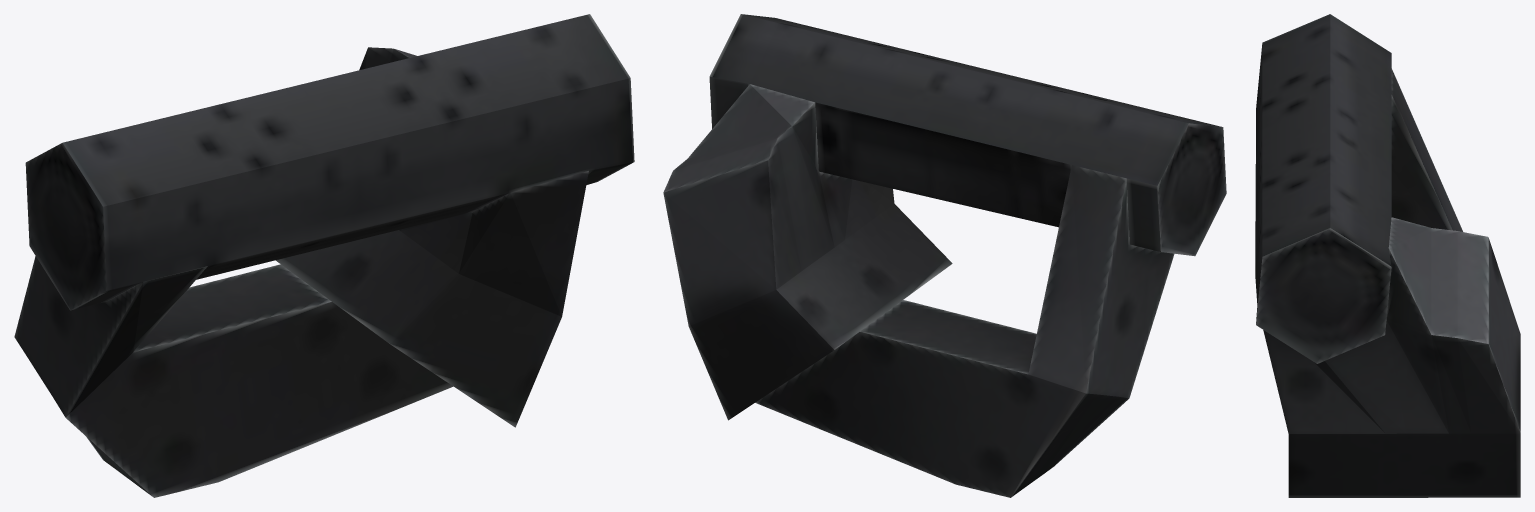
Rendered from l_lglut.dae.
3 renders of one model, left to right at view 1: azimuth 30°, elevation 25°; view 2: azimuth 150°, elevation 25°; view 3: azimuth 270°, elevation 25°, orthographic. The views are drawn at different scales.
Parts seen in each view (by area): view 1: drc_l_lglut; view 2: drc_l_lglut; view 3: drc_l_lglut.
Boxes of the visible parts, box(x1,y1,x2,y2) form: drc_l_lglut: box(14, 14, 634, 497); drc_l_lglut: box(663, 14, 1226, 497); drc_l_lglut: box(1255, 14, 1520, 497).
Size of the model in its own units: 0.144 by 0.0748 by 0.1063.
1 material, 1 textured.
